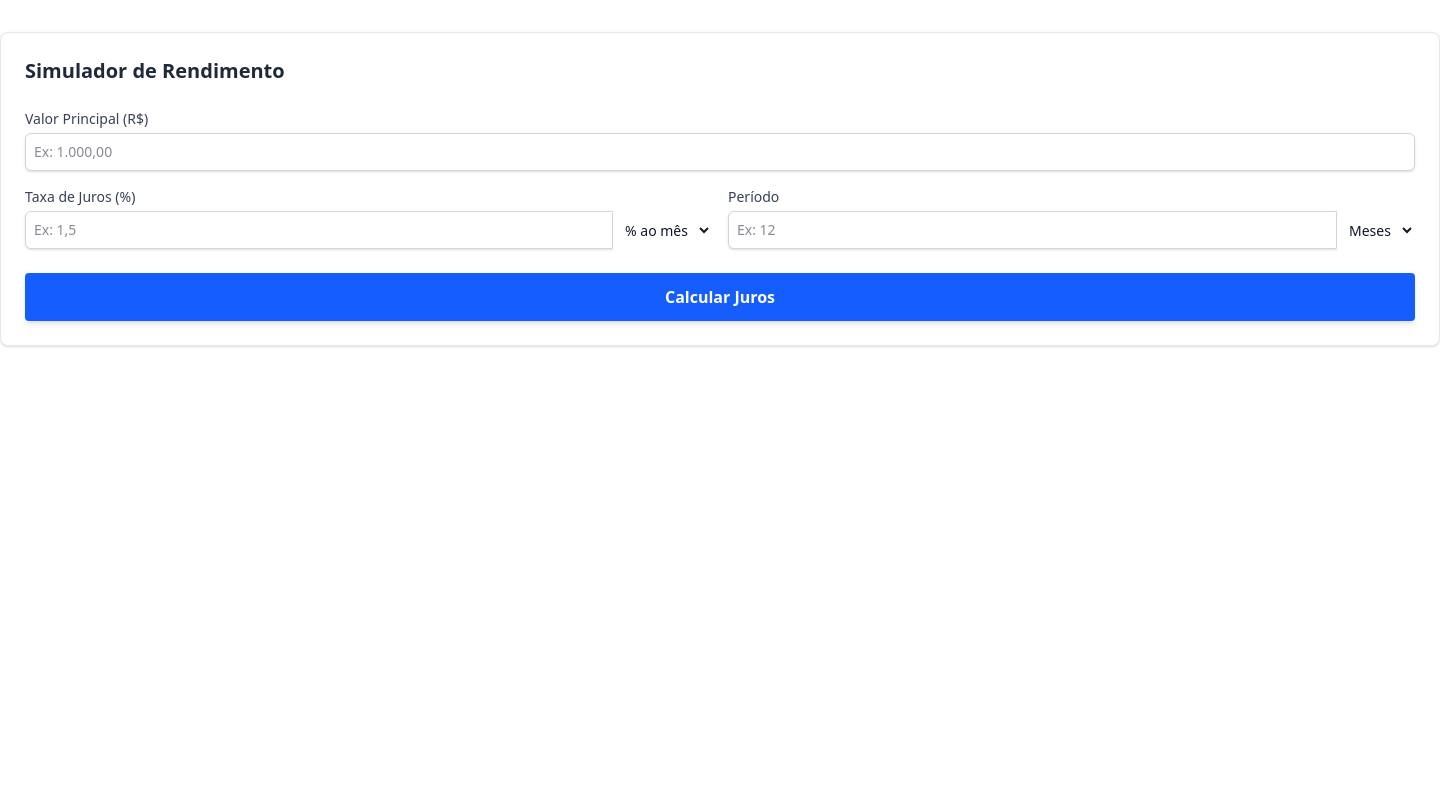
Test: SimpleInterestCalculator (Componente) › deve calcular e exibir os resultados corretamente quando o formulário é preenchido (Caminho Feliz)
Type "1.000,00" into the field labelled "Valor Principal (R$)" at (720, 152), box [25,133,1415,171]
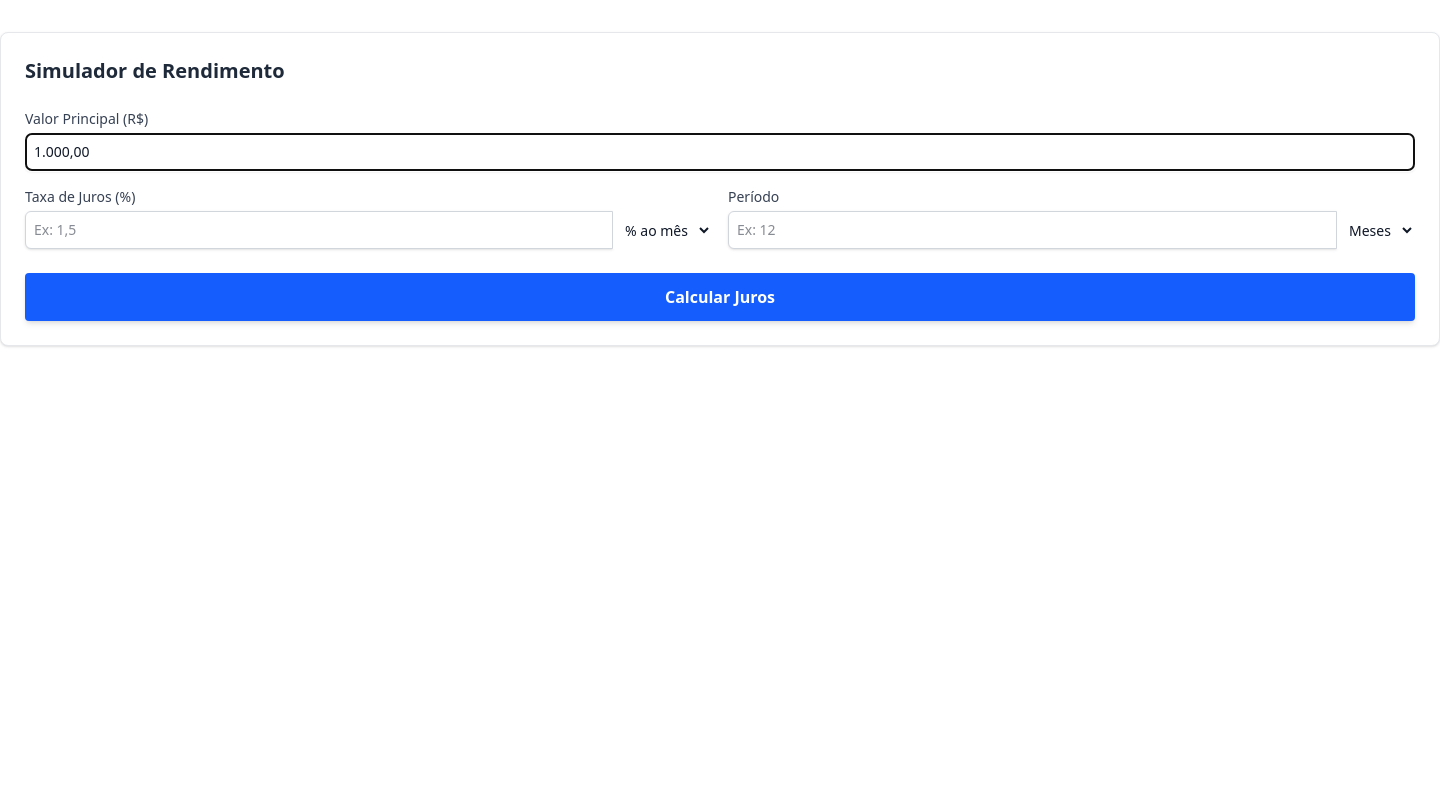
Type "1" into the field labelled "Taxa de Juros (%)" at (319, 230), box [25,211,613,249]
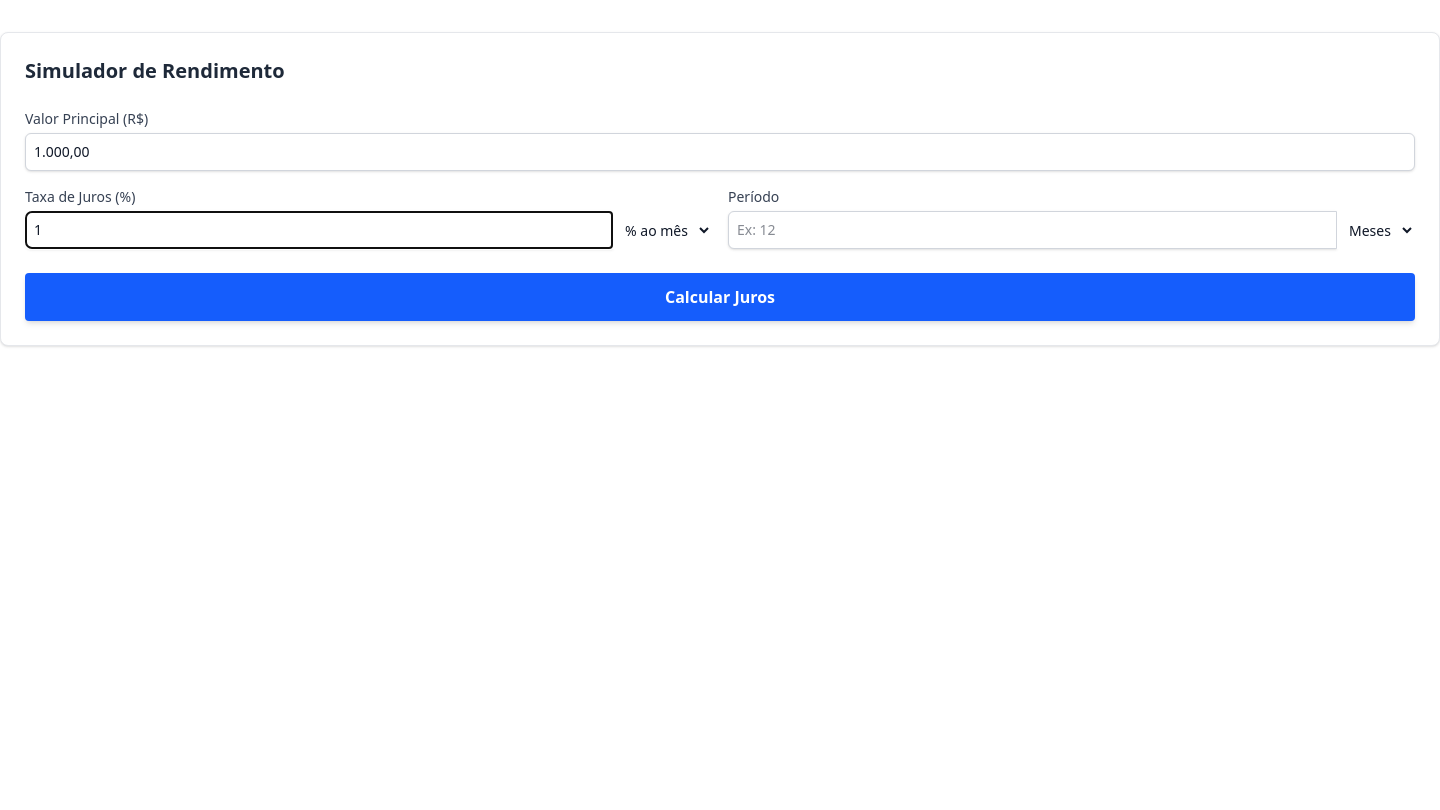
// (Os selects já vêm com "ao mês" e "meses" por padrão, então não precisamos mudar neste teste)
Type "12" into the number field labelled "Período" at (1032, 230), box [728,211,1337,249]
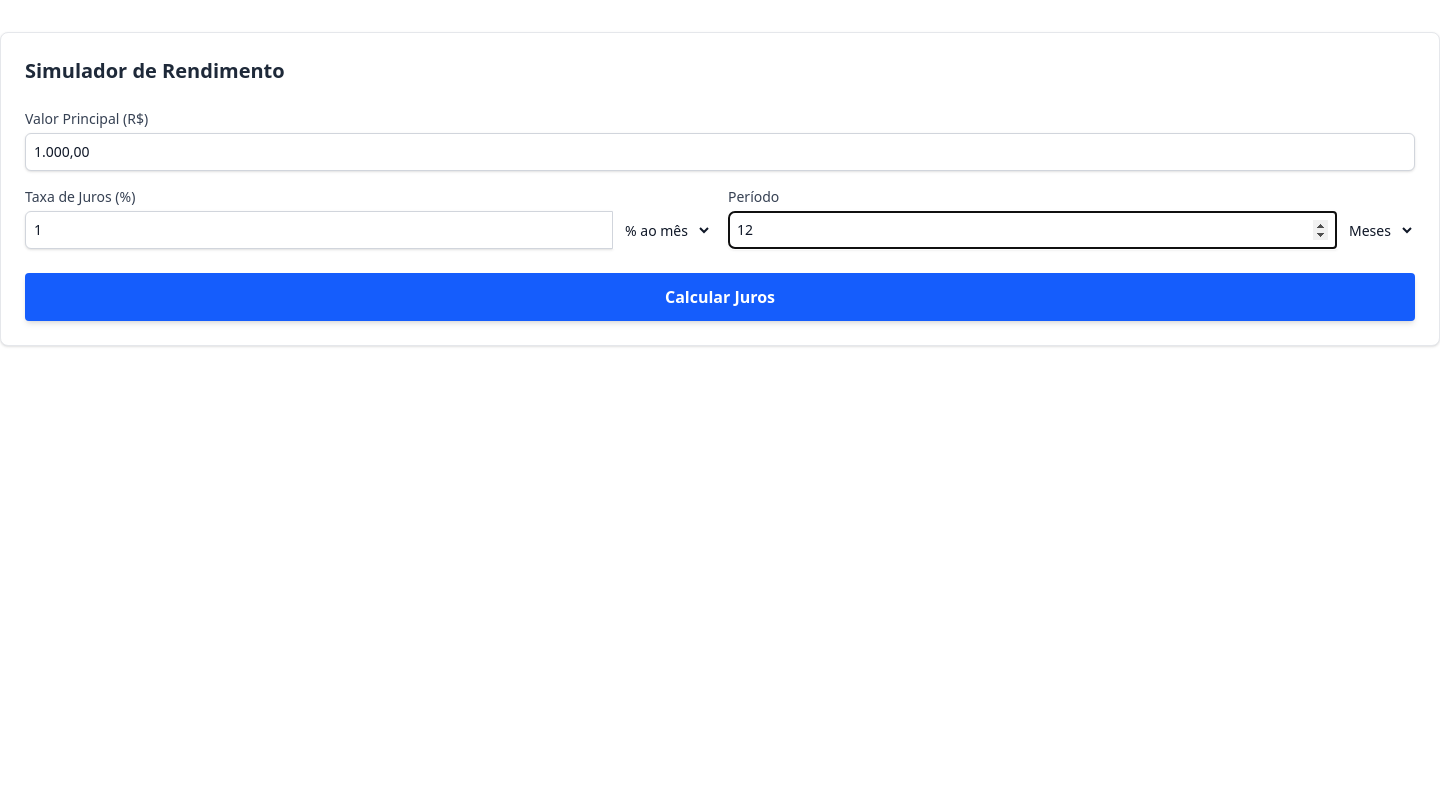
// Clicar no botão calcular
Click the button "Calcular Juros" at (720, 297), box [25,273,1415,321]
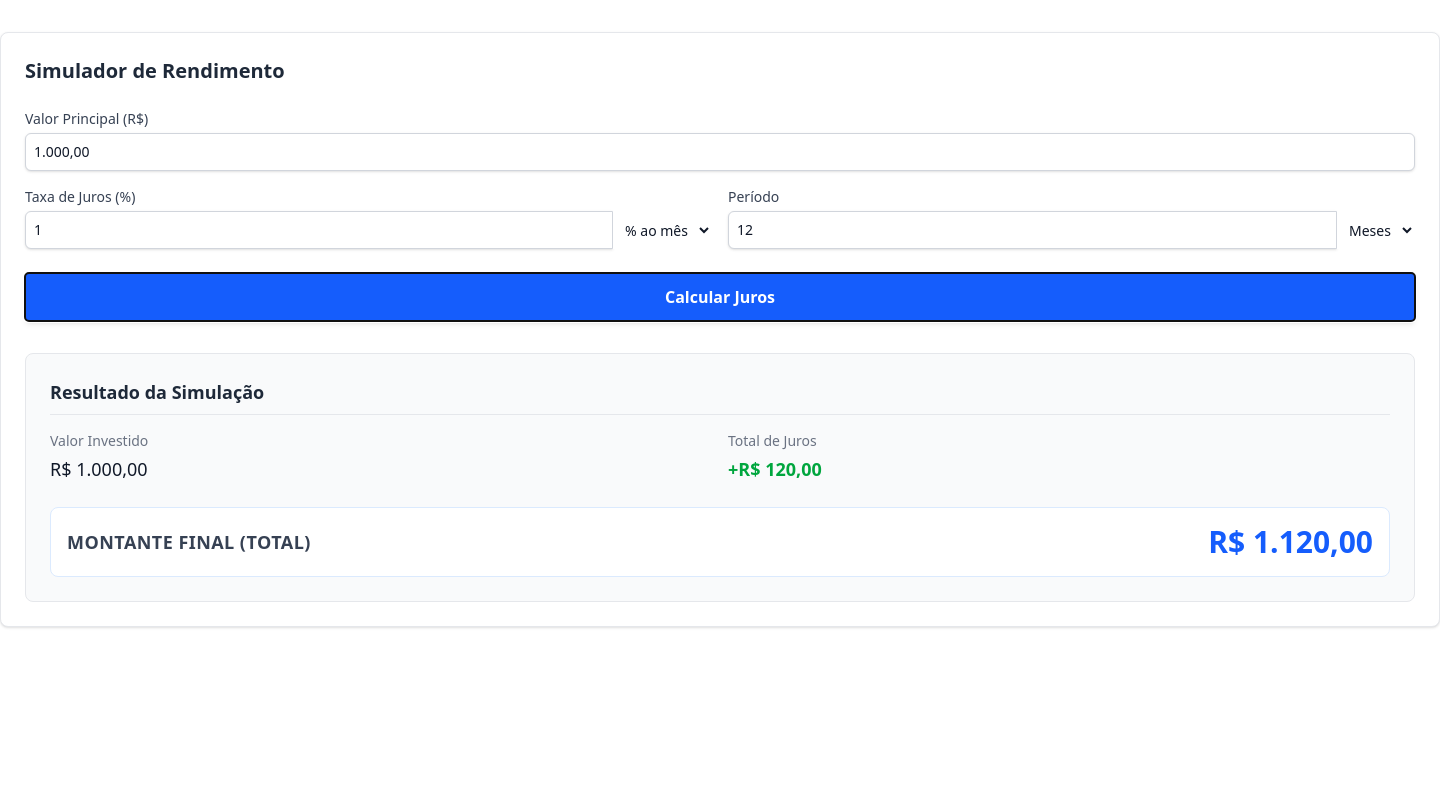
Expected: the heading "Resultado da Simulação" is shown, [50,378,1390,415]
Expected: the text "R$ 1.000,00" is shown, [50,457,148,481]
Expected: the text "+R$ 120,00" is shown, [728,457,822,481]
